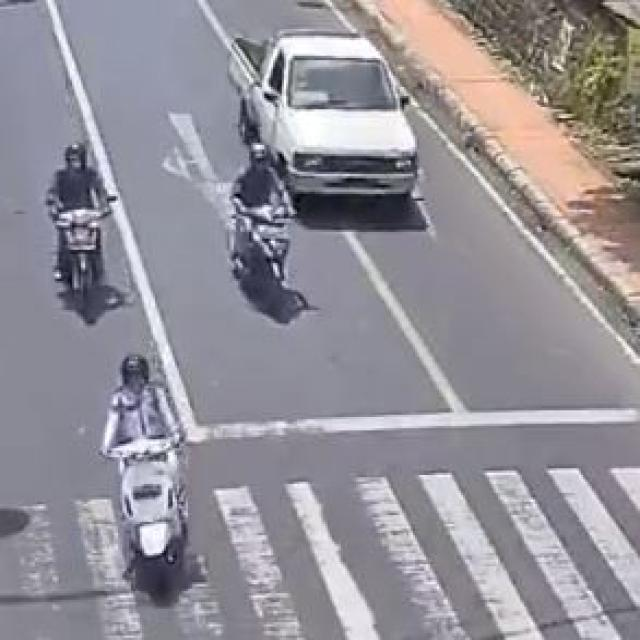car: (230, 22, 420, 209)
motorbike: (101, 357, 222, 581), (20, 144, 133, 314), (213, 161, 284, 333)
